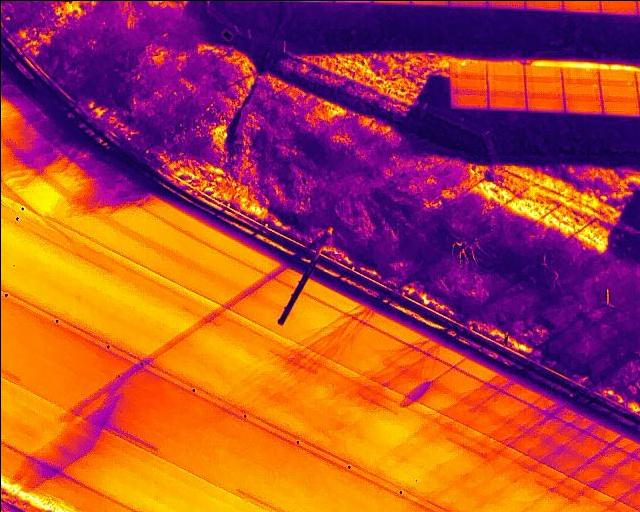Cell: (562, 79, 600, 95), (601, 80, 637, 96), (559, 67, 598, 80), (451, 62, 486, 74)
No-Anomaly: (486, 90, 526, 109), (563, 95, 601, 113), (451, 89, 487, 107), (524, 77, 562, 94), (602, 97, 639, 114), (526, 95, 563, 112), (485, 75, 524, 91), (449, 74, 486, 90), (487, 62, 523, 76), (524, 65, 561, 78), (599, 69, 635, 80)
